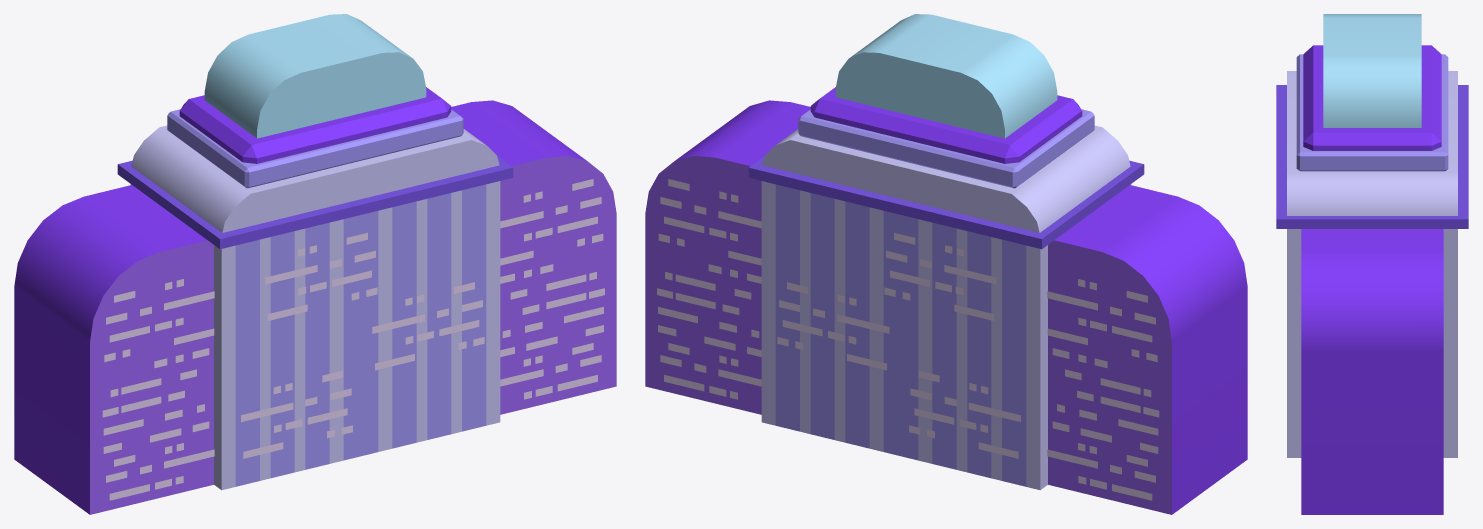
Rendered from Building_032.fbx.
3 views of the same model, side by side, from view 1: azimuth 30°, elevation 25°; view 2: azimuth 150°, elevation 25°; view 3: azimuth 270°, elevation 25° (orthographic). The views are drawn at different scales.
Visible parts, largest first — view 1: Building_032; view 2: Building_032; view 3: Building_032.
Part boxes in pixels (<box>): Building_032: <box>14,14,616,514</box>; Building_032: <box>645,14,1247,514</box>; Building_032: <box>1276,14,1468,514</box>.
Size of the model in its own units: 118 by 81.45 by 39.85.
